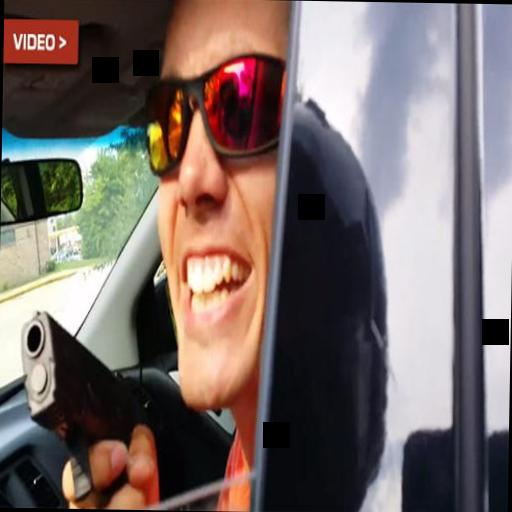Handgun: (16, 308, 155, 494)
